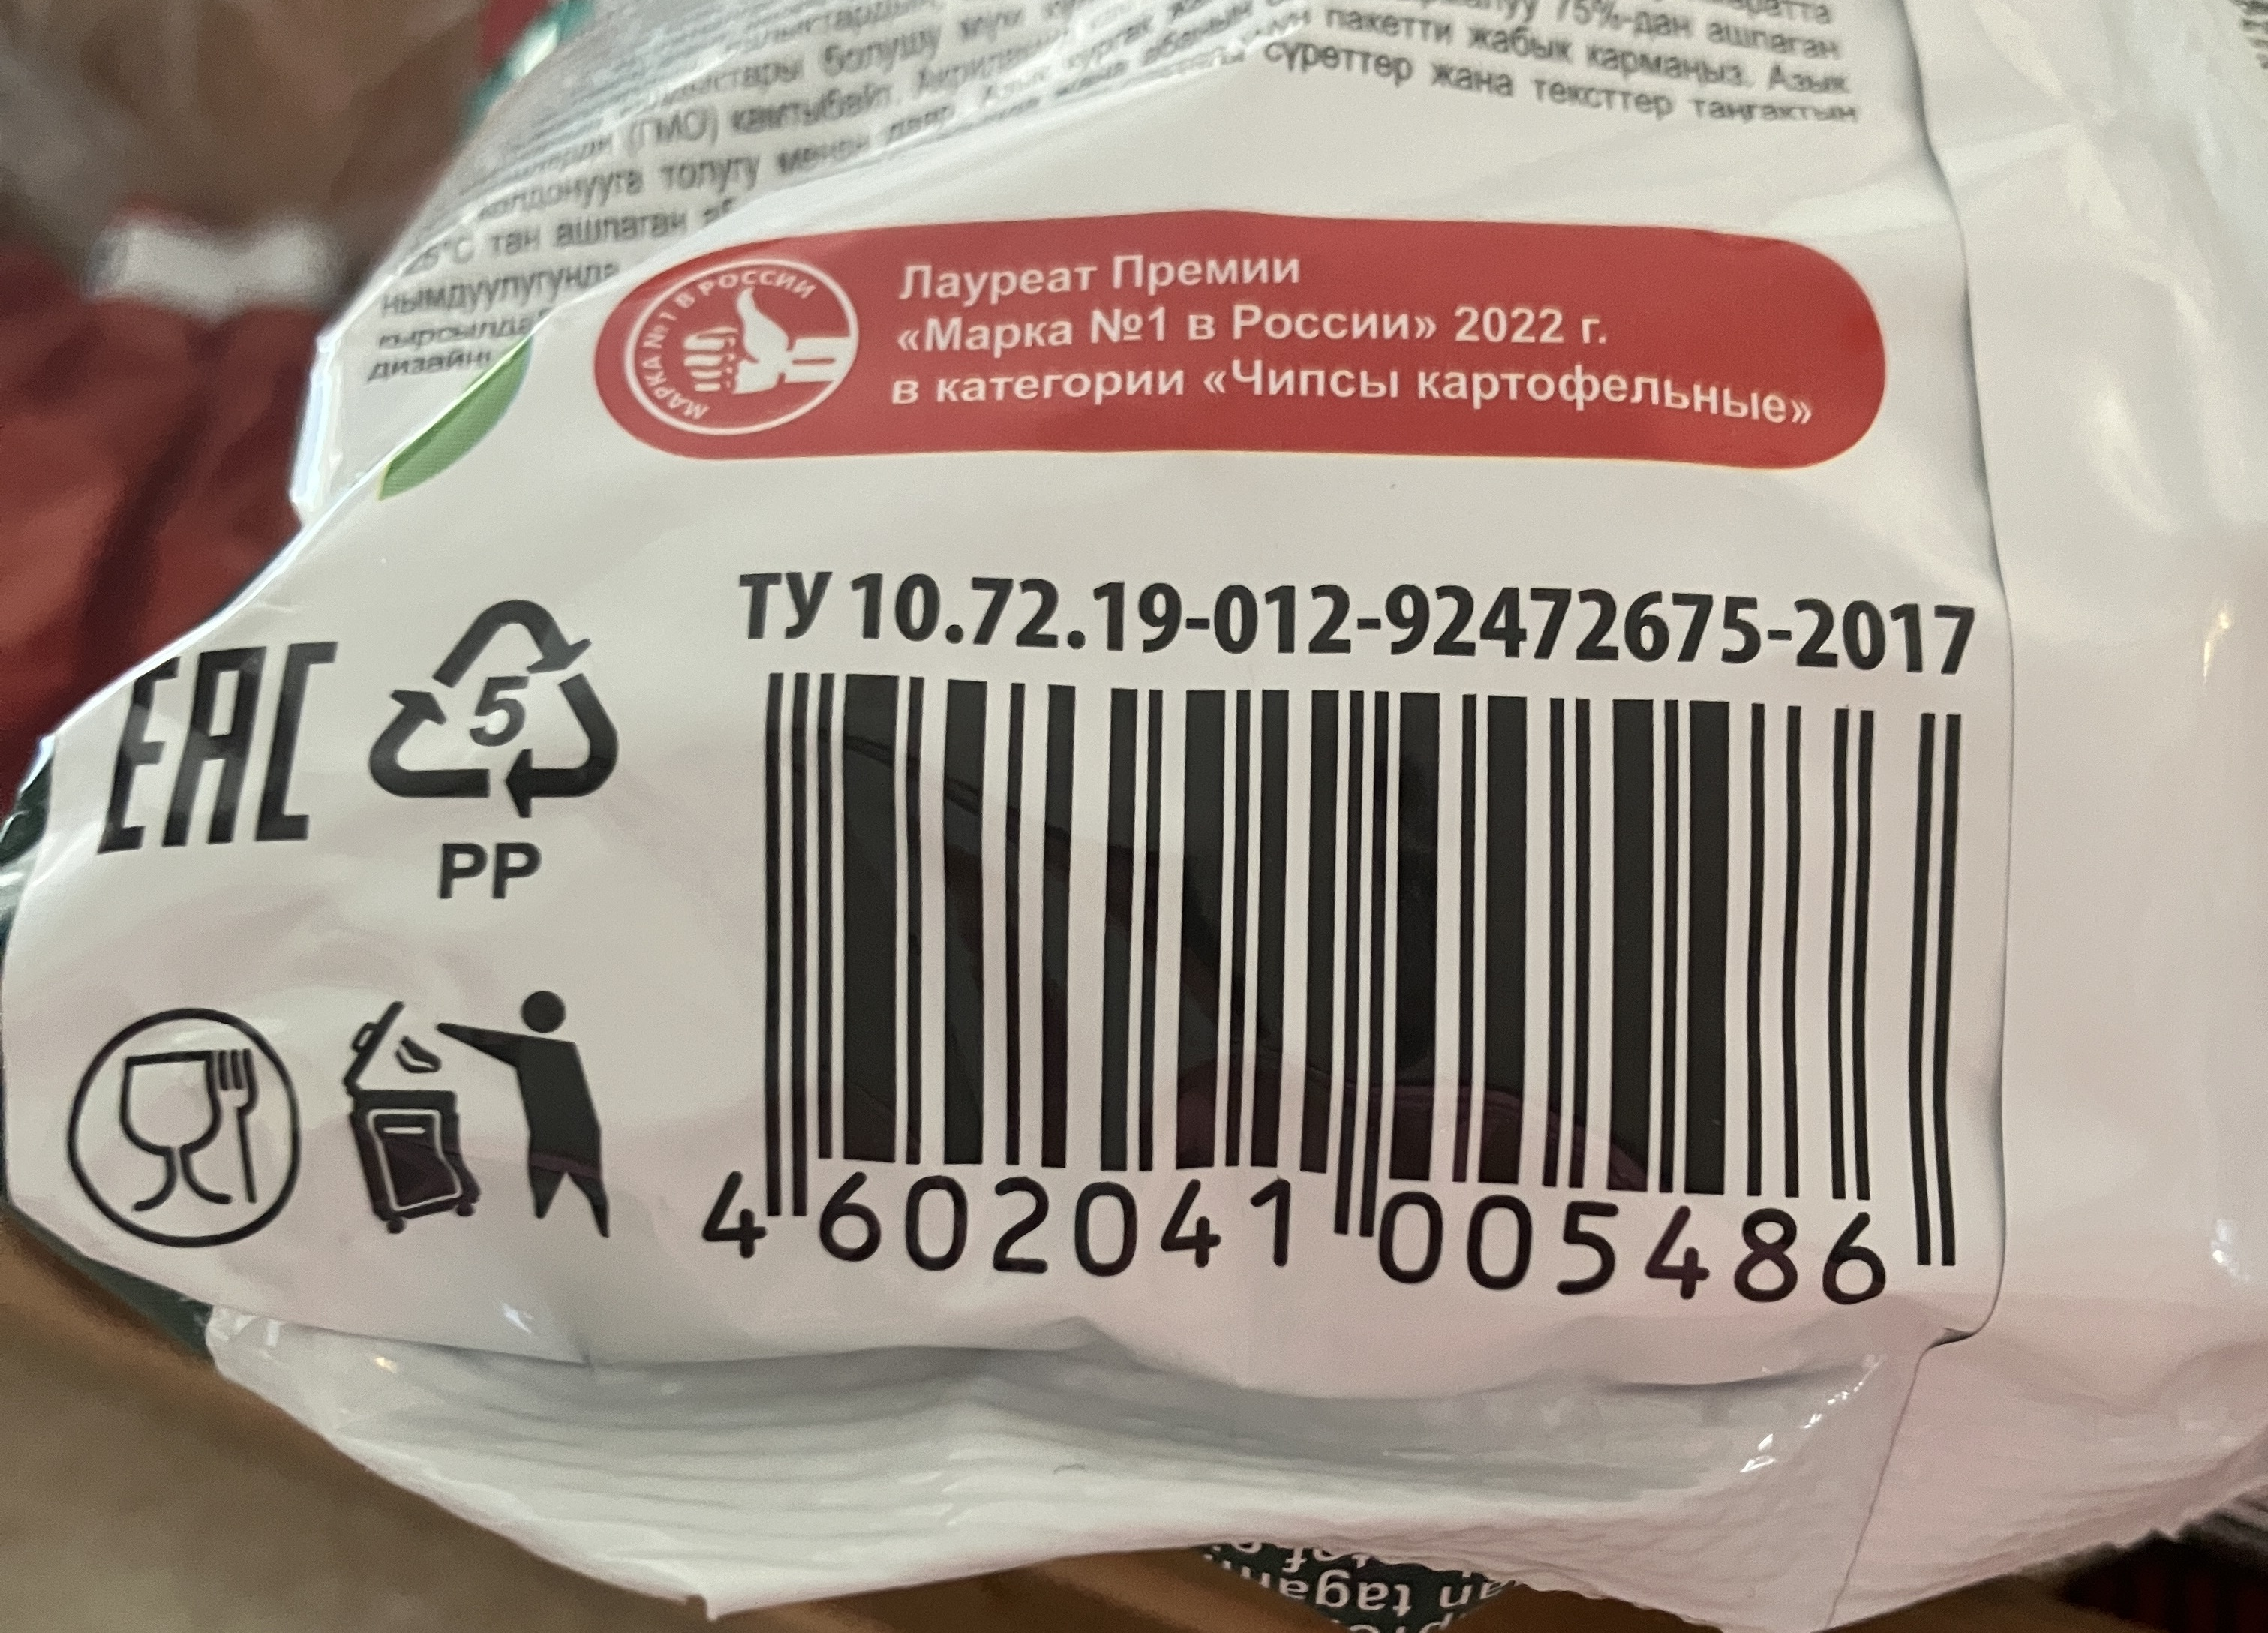1d: (768, 673, 1963, 1263)
